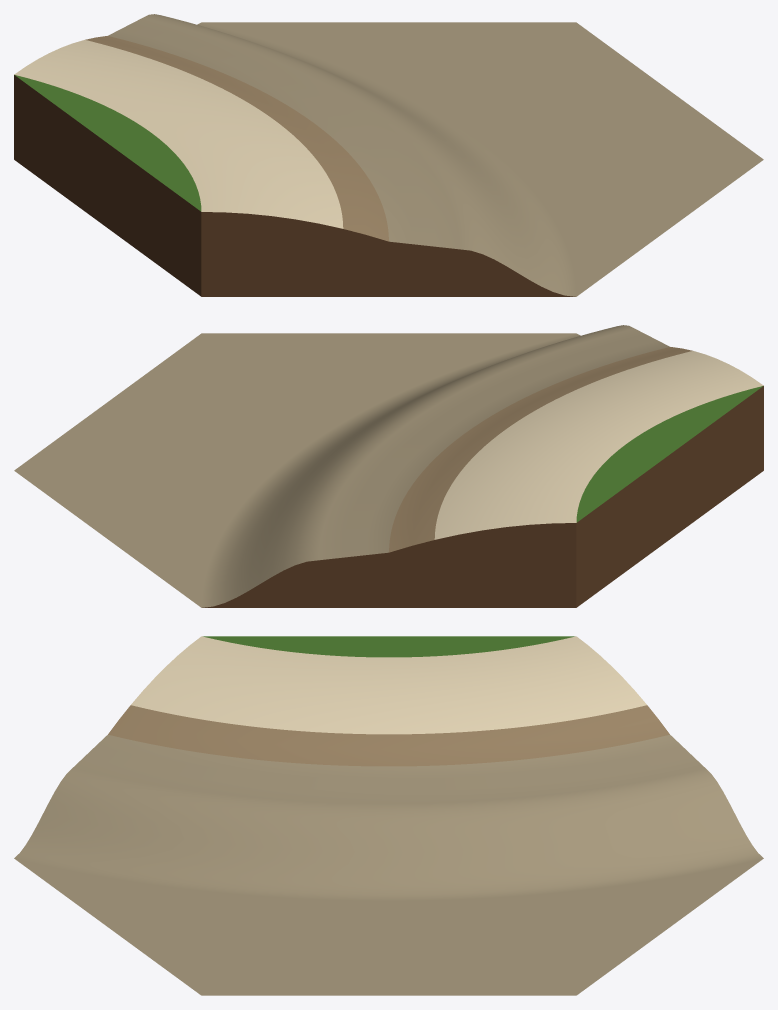
Rendered from beach_outer_base.glb.
3 views of the same model, one above another, from view 1: azimuth 30°, elevation 25°; view 2: azimuth 150°, elevation 25°; view 3: azimuth 270°, elevation 25° (orthographic).
Visible parts, largest first — view 1: beach_outer_base_lod0; view 2: beach_outer_base_lod0; view 3: beach_outer_base_lod0.
Part boxes in pixels (<box>): beach_outer_base_lod0: <box>14,14,763,296</box>; beach_outer_base_lod0: <box>14,325,763,607</box>; beach_outer_base_lod0: <box>14,636,763,995</box>.
Size of what is drawn, in the model's own units: 27.71 by 4 by 32.
